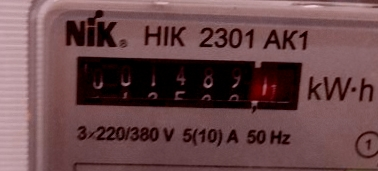0: (116, 61, 133, 86), (89, 64, 105, 89)
1: (145, 60, 160, 89), (257, 67, 269, 97)
4: (172, 61, 189, 87)
8: (198, 61, 216, 89)
9: (227, 64, 243, 89)
screen: (60, 44, 317, 123)
